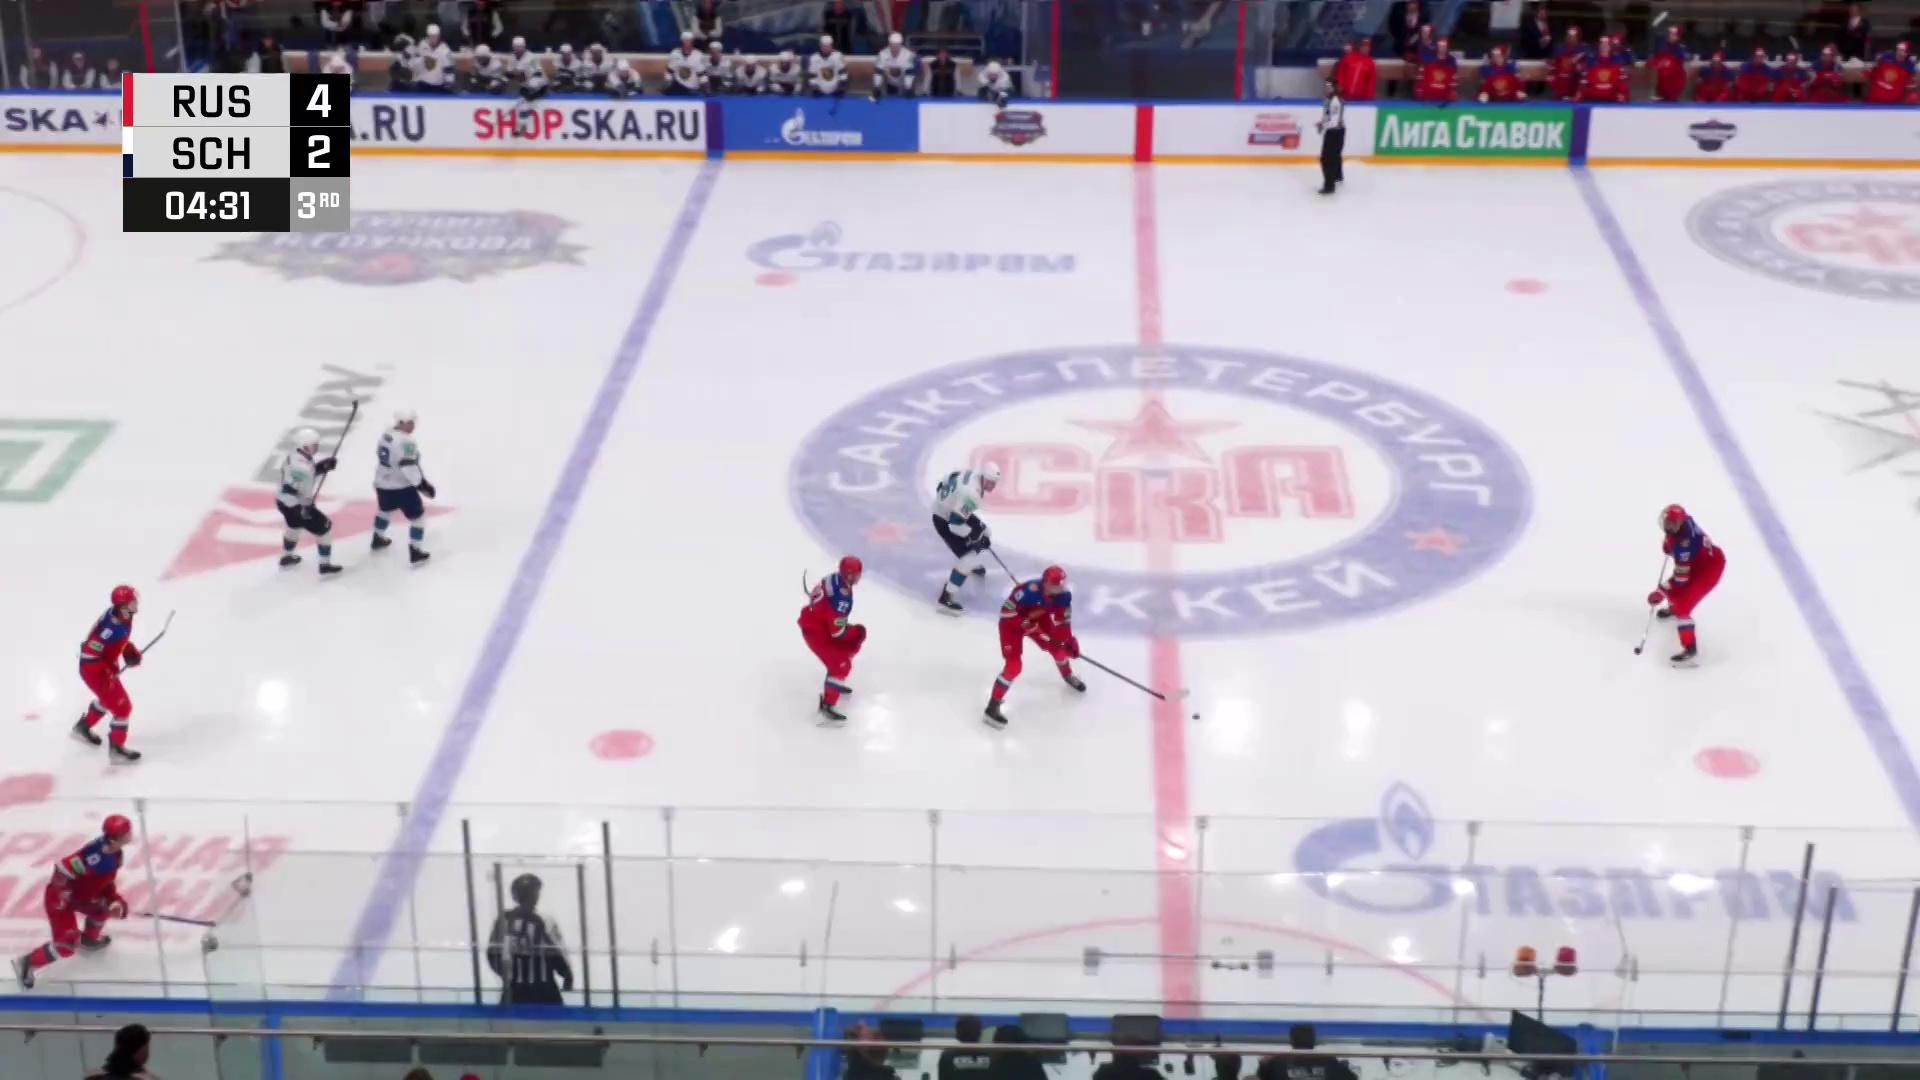ball: (1191, 713, 1201, 721)
